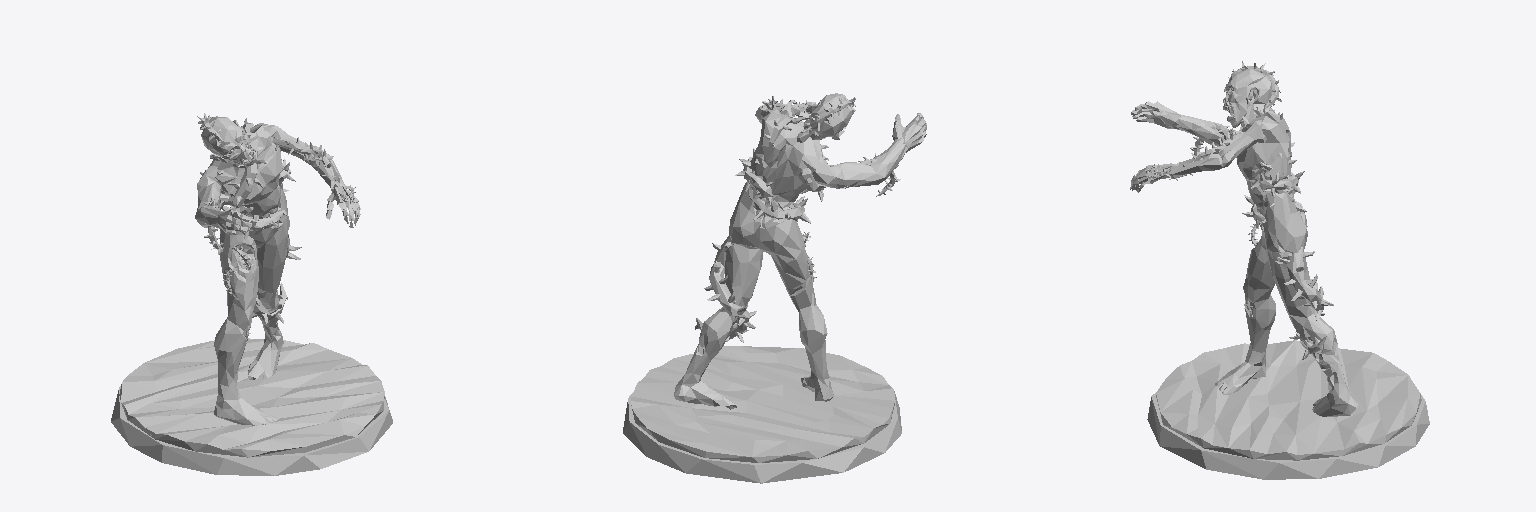
The model's file is vine zombie v1.obj.
3 renders of one model, left to right at view 1: azimuth 30°, elevation 25°; view 2: azimuth 150°, elevation 25°; view 3: azimuth 270°, elevation 25°, orthographic.
Visible parts, largest first — view 1: vine_zombie; view 2: vine_zombie; view 3: vine_zombie.
Part boxes in pixels (left/top/right/bottom): vine_zombie: left=111, top=113, right=392, bottom=475; vine_zombie: left=623, top=93, right=926, bottom=483; vine_zombie: left=1130, top=61, right=1429, bottom=479.
Bounding box in the file's own units: 0.2535 × 0.3284 × 0.2713.